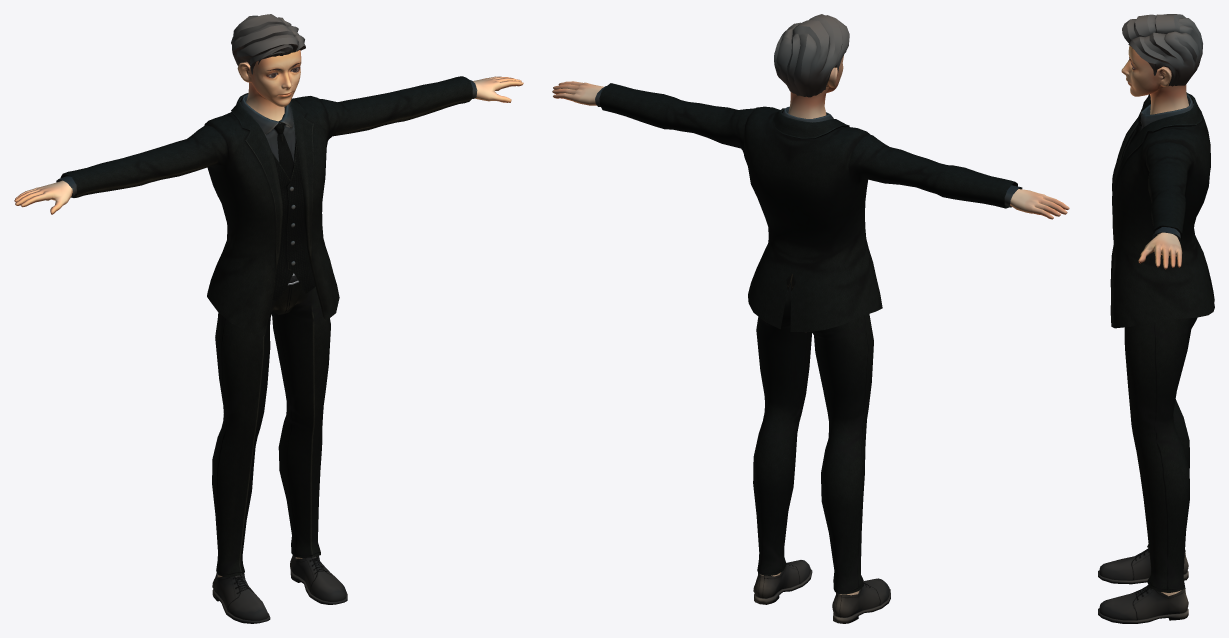
File: Male_00.fbx
3 views of the same model, side by side, from view 1: azimuth 30°, elevation 25°; view 2: azimuth 150°, elevation 25°; view 3: azimuth 270°, elevation 25° (orthographic).
Parts seen in each view (by area): view 1: Cloth_Coat_00, Cloth_Pants_00, Cloth_Shirt, Cloth_Shoes, Hair, Body, Face; view 2: Cloth_Coat_00, Cloth_Pants_00, Hair, Cloth_Shoes, Body; view 3: Cloth_Coat_00, Cloth_Pants_00, Hair, Cloth_Shoes, Body, Face, Cloth_Shirt.
Part boxes in pixels (box(x1,y1,x2,y2)): Cloth_Coat_00: box(60, 76, 472, 336); Cloth_Pants_00: box(212, 273, 330, 576); Cloth_Shirt: box(56, 80, 477, 300); Cloth_Shoes: box(212, 555, 347, 623); Hair: box(231, 14, 305, 74); Body: box(14, 76, 523, 577); Face: box(237, 50, 301, 106); Cloth_Coat_00: box(599, 83, 1017, 332); Cloth_Pants_00: box(753, 285, 873, 594); Hair: box(774, 14, 849, 97); Cloth_Shoes: box(753, 560, 890, 623); Body: box(552, 81, 1069, 595); Cloth_Coat_00: box(1110, 92, 1214, 328); Cloth_Pants_00: box(1124, 317, 1197, 592); Hair: box(1122, 14, 1202, 86); Cloth_Shoes: box(1098, 548, 1188, 623); Body: box(1138, 84, 1188, 596); Face: box(1121, 45, 1171, 96); Cloth_Shirt: box(1121, 94, 1193, 242).
Size of the model in its own units: 167 by 180 by 33.02.
